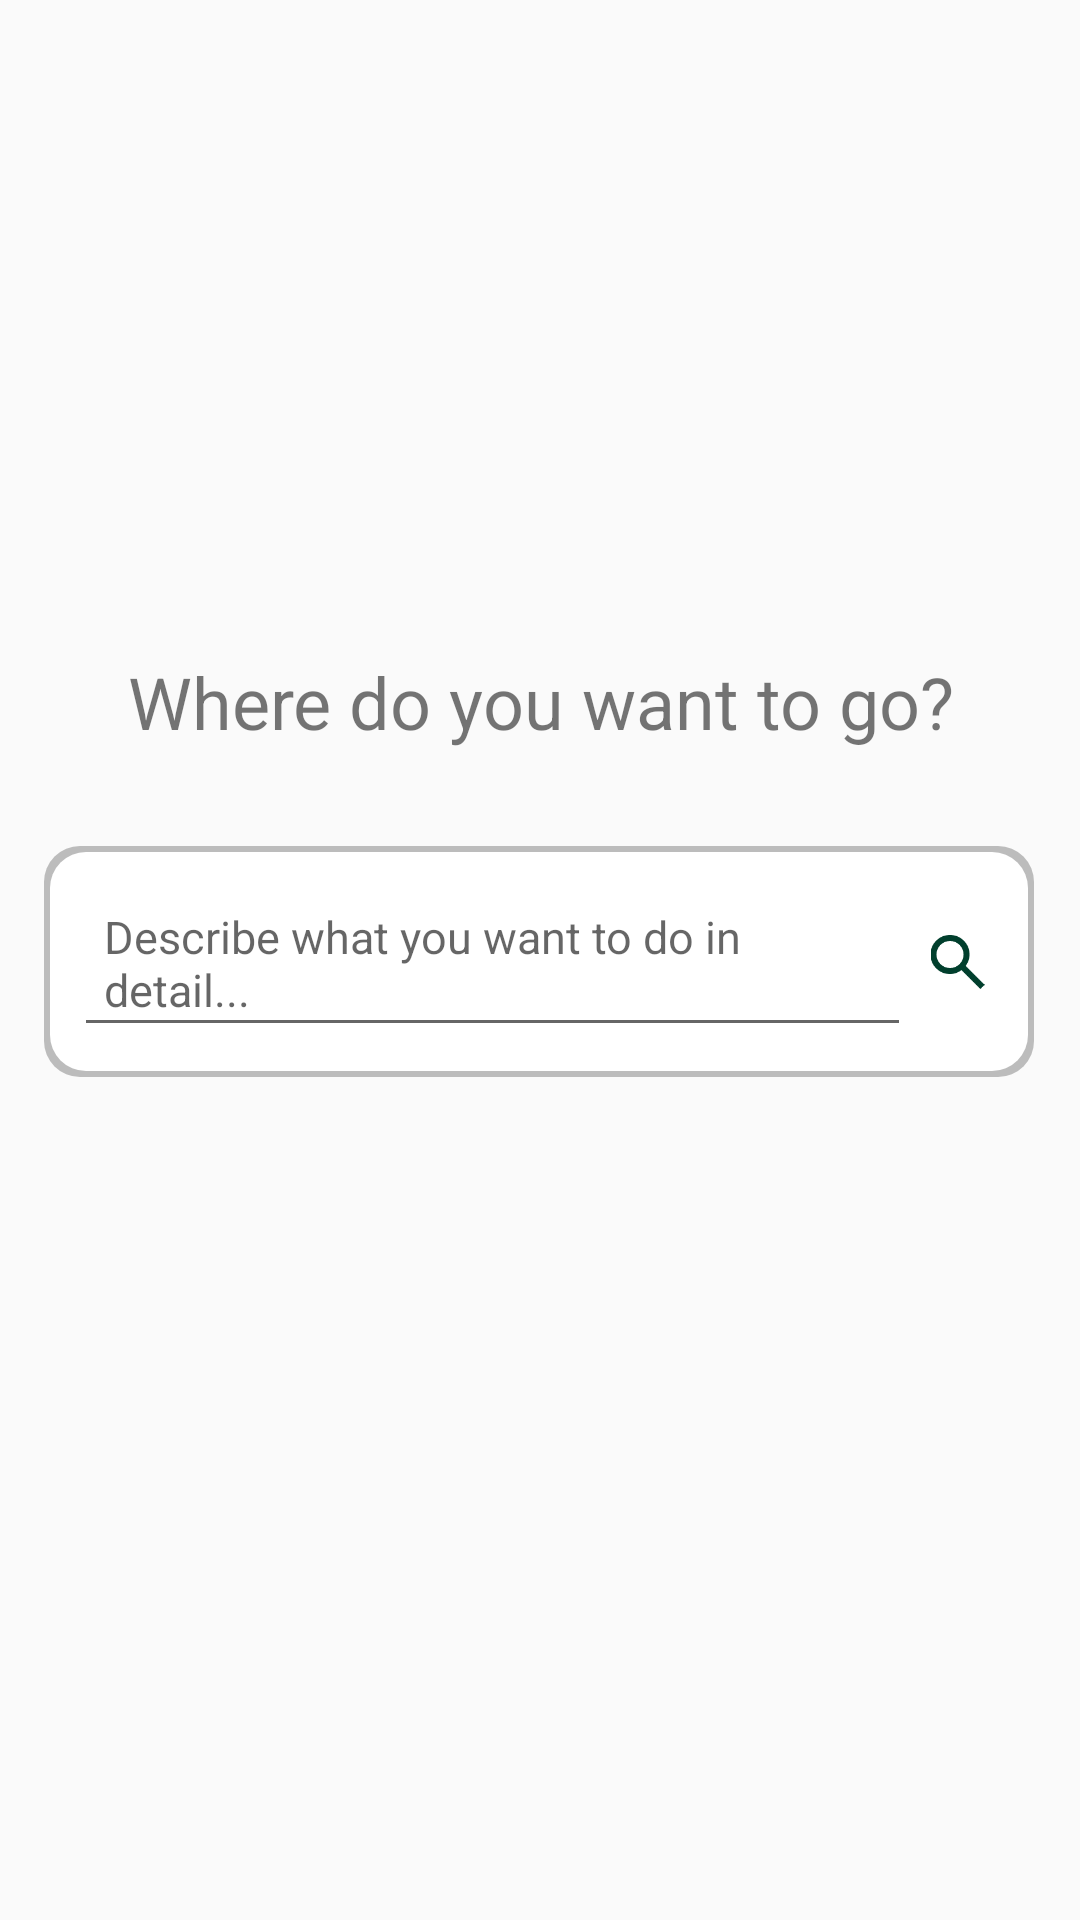

Icons on this 1080*1920 Android screen, each with the point to tap as (x,y):
search: (958,962)
